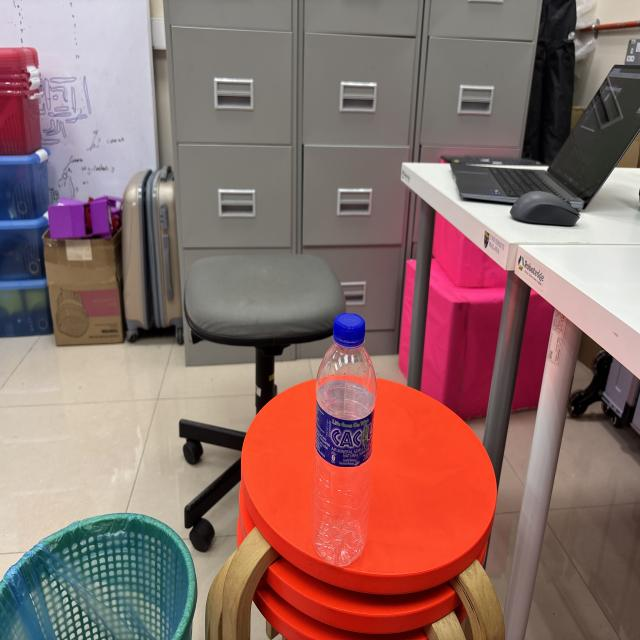plastic_bottle: (310, 303, 382, 584)
